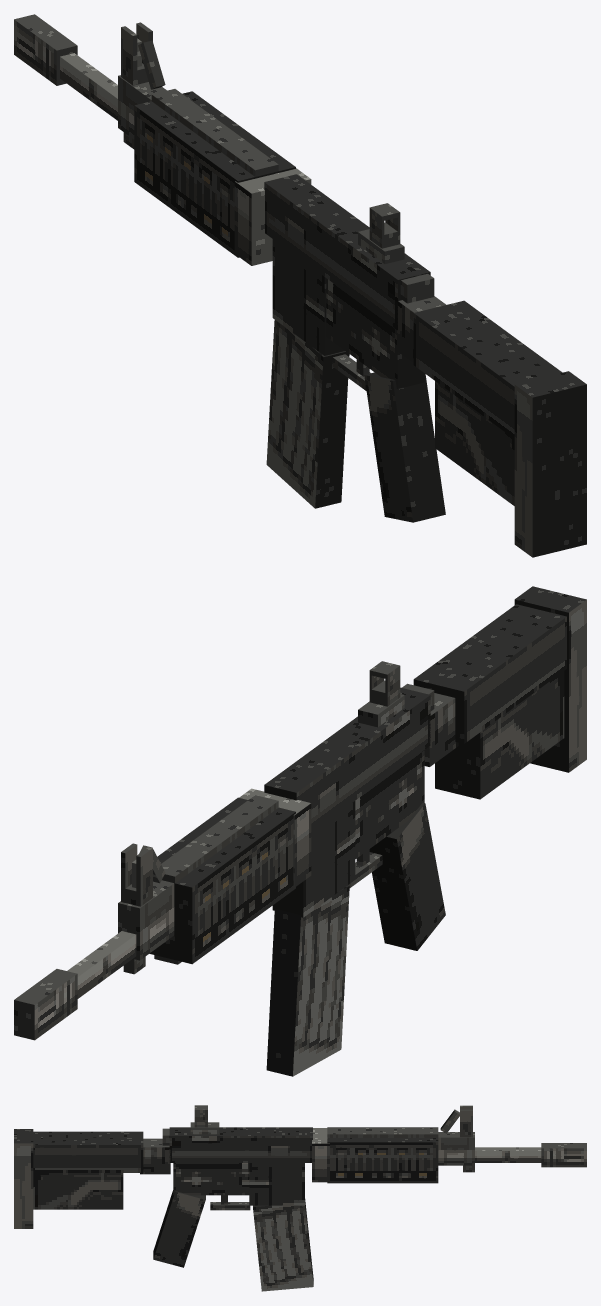
3 views of the same model, one above another, from view 1: azimuth 30°, elevation 25°; view 2: azimuth 150°, elevation 25°; view 3: azimuth 270°, elevation 25° (orthographic). The views are drawn at different scales.
Visible parts, largest first — view 1: butt_pad, magazine, handguard, stock_body, upper_receiver, pistol_grip, stock_lower, lower_receiver, mag_well, rail_top, delta_ring, flash_hider (+6 smaller); view 2: handguard, magazine, stock_body, upper_receiver, stock_lower, pistol_grip, butt_pad, mag_well, lower_receiver, rail_top, flash_hider, gas_block (+5 smaller); view 3: handguard, upper_receiver, stock_body, magazine, stock_lower, pistol_grip, lower_receiver, mag_well, butt_pad, gas_block, flash_hider, rail_top (+7 smaller).
Part boxes in pixels (left/top/right/bottom): butt_pad: left=514, top=371, right=586, bottom=557; magazine: left=266, top=320, right=349, bottom=508; handguard: left=134, top=91, right=295, bottom=257; stock_body: left=413, top=300, right=562, bottom=438; upper_receiver: left=264, top=174, right=430, bottom=330; pistol_grip: left=364, top=372, right=445, bottom=522; stock_lower: left=435, top=381, right=514, bottom=505; lower_receiver: left=326, top=278, right=424, bottom=388; mag_well: left=272, top=239, right=344, bottom=355; rail_top: left=151, top=89, right=278, bottom=176; delta_ring: left=234, top=168, right=311, bottom=265; flash_hider: left=14, top=14, right=77, bottom=85; handguard: left=149, top=797, right=295, bottom=964; magazine: left=266, top=885, right=349, bottom=1076; stock_body: left=413, top=604, right=566, bottom=743; upper_receiver: left=264, top=687, right=430, bottom=832; stock_lower: left=435, top=671, right=564, bottom=799; pistol_grip: left=369, top=802, right=445, bottom=950; butt_pad: left=514, top=586, right=586, bottom=772; mag_well: left=272, top=801, right=355, bottom=917; lower_receiver: left=355, top=750, right=424, bottom=858; rail_top: left=161, top=795, right=278, bottom=883; flash_hider: left=14, top=969, right=77, bottom=1040; gas_block: left=118, top=880, right=174, bottom=960; handguard: left=327, top=1127, right=438, bottom=1183; upper_receiver: left=169, top=1127, right=312, bottom=1162; stock_body: left=33, top=1131, right=143, bottom=1172; magazine: left=253, top=1199, right=313, bottom=1291; stock_lower: left=33, top=1173, right=123, bottom=1209; pistol_grip: left=153, top=1190, right=205, bottom=1267; lower_receiver: left=173, top=1163, right=249, bottom=1195; mag_well: left=249, top=1163, right=304, bottom=1205; butt_pad: left=14, top=1129, right=33, bottom=1228; gas_block: left=438, top=1132, right=474, bottom=1165; flash_hider: left=541, top=1143, right=586, bottom=1167; rail_top: left=327, top=1128, right=438, bottom=1137.
Size of the model in its own units: 0.0516 by 0.2779 by 0.8.
Materials: 1 (1 with a texture image).
